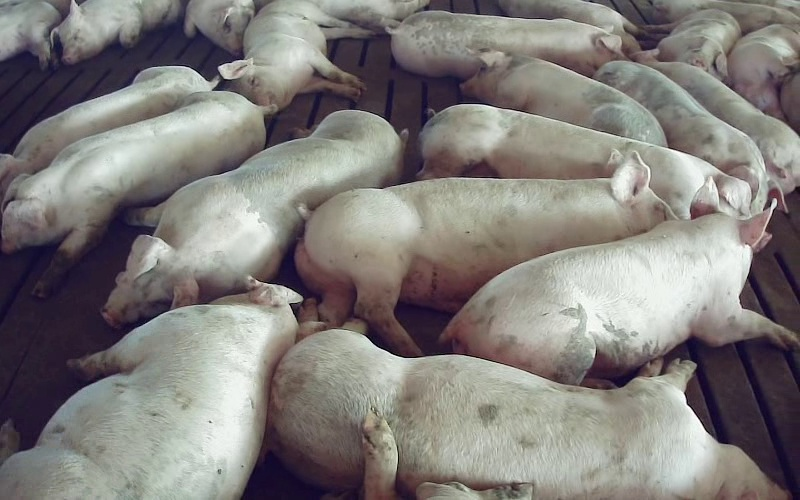pig: (267, 329, 786, 499), (295, 151, 673, 355), (441, 178, 799, 384), (0, 282, 318, 499), (102, 112, 407, 326), (2, 92, 270, 296), (418, 104, 749, 217), (594, 61, 786, 212), (0, 67, 216, 201), (635, 49, 799, 193), (460, 51, 666, 145), (219, 0, 372, 109), (388, 11, 624, 79), (51, 0, 183, 64), (498, 0, 640, 55), (632, 9, 740, 79), (728, 24, 799, 119), (653, 0, 799, 33), (184, 0, 254, 55)
